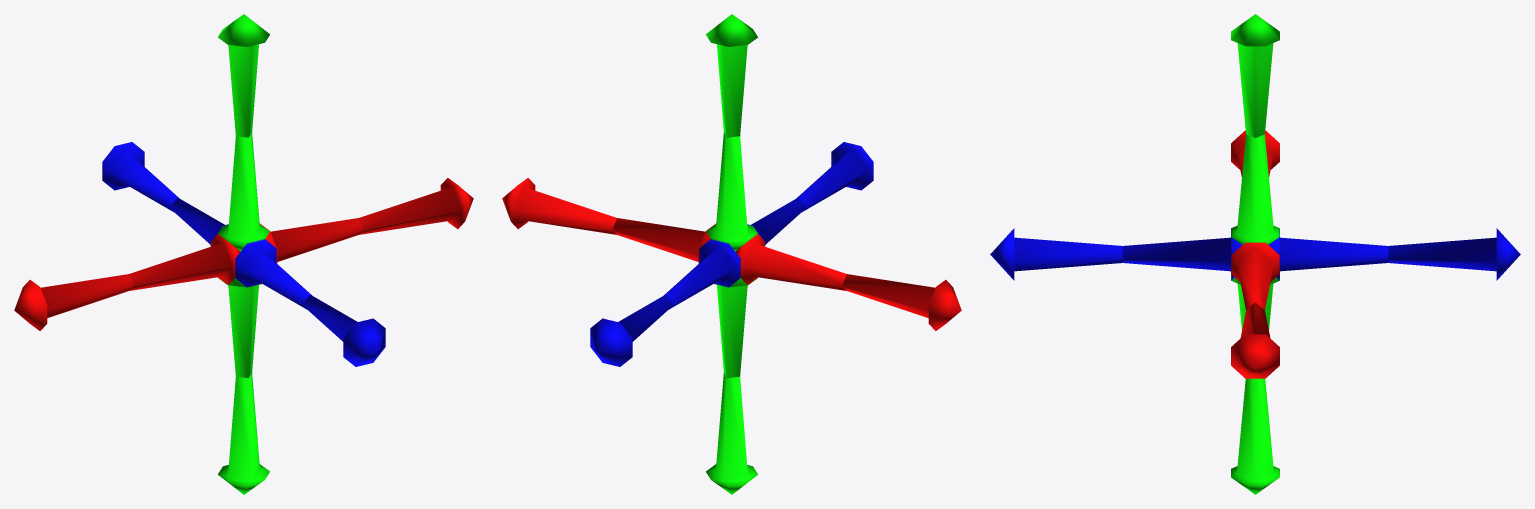
Rendered from size_selector.obj.
3 views of the same model, side by side, from view 1: azimuth 30°, elevation 25°; view 2: azimuth 150°, elevation 25°; view 3: azimuth 270°, elevation 25° (orthographic).
Visible parts, largest first — view 1: -X-, +Y+, +X+, -Y-, -X+, +Y-, +Z+, -Z-, +Z-, -Y+, +X-, -Z+; view 2: -X-, +Y+, +X+, -Y-, -X+, +Y-, -Z-, +Z+, -Z+, -Y+, +X-, +Z-; view 3: +Y+, -Z-, +Z+, -Y-, +Y-, -Z+, +Z-, +X+, +X-, -X-.
Boxes of the visible parts, x1=… form: -X-: x1=14, y1=274, x2=133, y2=330; +Y+: x1=218, y1=14, x2=269, y2=137; +X+: x1=359, y1=178, x2=473, y2=234; -Y-: x1=218, y1=373, x2=269, y2=494; -X+: x1=129, y1=234, x2=240, y2=290; +Y-: x1=218, y1=133, x2=269, y2=251; +Z+: x1=302, y1=294, x2=385, y2=366; -Z-: x1=102, y1=142, x2=178, y2=212; +Z-: x1=235, y1=239, x2=311, y2=309; -Y+: x1=218, y1=278, x2=261, y2=377; +X-: x1=259, y1=218, x2=363, y2=263; -Z+: x1=170, y1=197, x2=228, y2=246; -X-: x1=842, y1=274, x2=961, y2=330; +Y+: x1=706, y1=14, x2=757, y2=137; +X+: x1=502, y1=178, x2=616, y2=234; -Y-: x1=706, y1=373, x2=757, y2=494; -X+: x1=735, y1=234, x2=846, y2=290; +Y-: x1=706, y1=133, x2=757, y2=251; -Z-: x1=590, y1=294, x2=673, y2=366; +Z+: x1=797, y1=142, x2=873, y2=212; -Z+: x1=664, y1=239, x2=740, y2=309; -Y+: x1=714, y1=278, x2=757, y2=377; +X-: x1=612, y1=218, x2=716, y2=263; +Z-: x1=747, y1=197, x2=805, y2=246; +Y+: x1=1231, y1=14, x2=1279, y2=137; -Z-: x1=1388, y1=228, x2=1520, y2=280; +Z+: x1=990, y1=228, x2=1122, y2=280; -Y-: x1=1231, y1=378, x2=1279, y2=494; +Y-: x1=1231, y1=134, x2=1279, y2=244; -Z+: x1=1269, y1=228, x2=1388, y2=280; +Z-: x1=1122, y1=228, x2=1241, y2=280; +X+: x1=1231, y1=302, x2=1279, y2=378; +X-: x1=1231, y1=242, x2=1279, y2=310; -X-: x1=1231, y1=130, x2=1279, y2=176.
Bounding box in the file's own units: 2 × 2 × 2.
